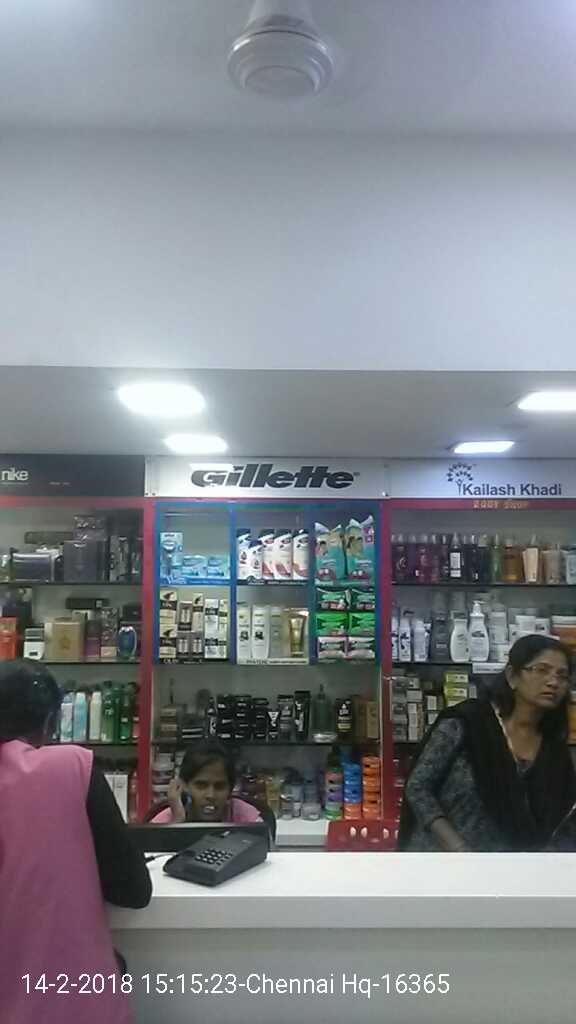venus: (155, 531, 180, 583), (185, 553, 208, 577), (208, 555, 229, 577)
